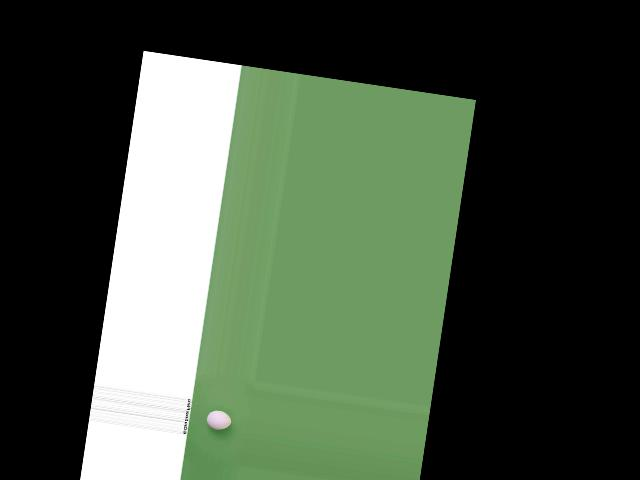egg: (205, 409, 232, 431)
